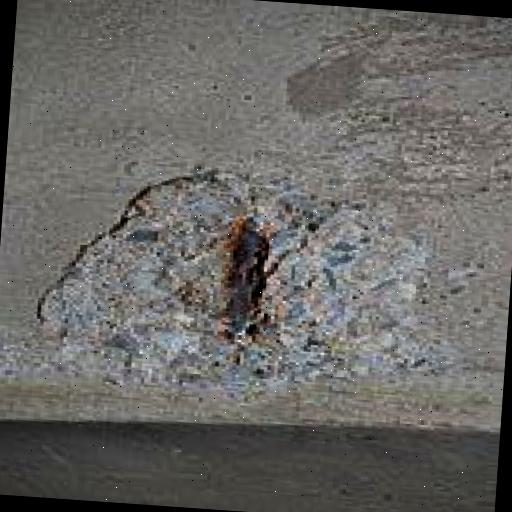spalling: (43, 174, 426, 383)
